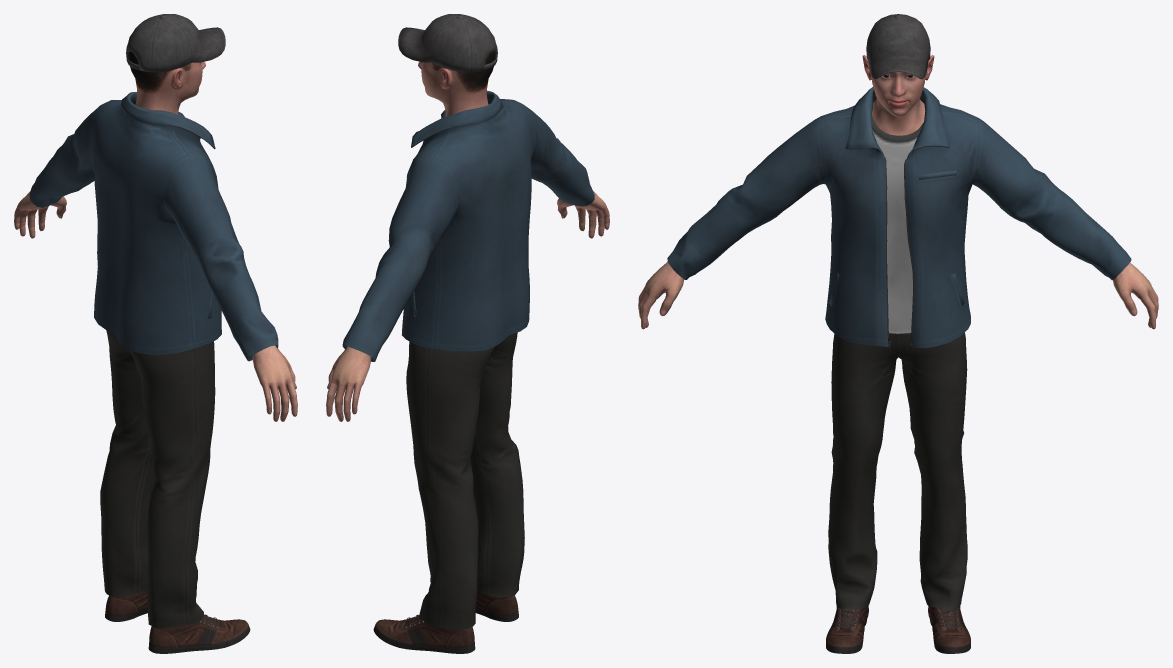
Rendered from sm_maozinan_web.fbx.
3 renders of one model, left to right at view 1: azimuth 30°, elevation 25°; view 2: azimuth 150°, elevation 25°; view 3: azimuth 270°, elevation 25°, orthographic.
Parts seen in each view (by area): view 1: sm_maozinan_web; view 2: sm_maozinan_web; view 3: sm_maozinan_web.
Boxes of the visible parts, left/top/right/bottom form: sm_maozinan_web: left=14, top=14, right=297, bottom=653; sm_maozinan_web: left=326, top=14, right=609, bottom=653; sm_maozinan_web: left=638, top=14, right=1158, bottom=653.
Bounding box in the file's own units: 0.3242 × 1.72 × 1.32.
Materials: 2 (2 with a texture image).
